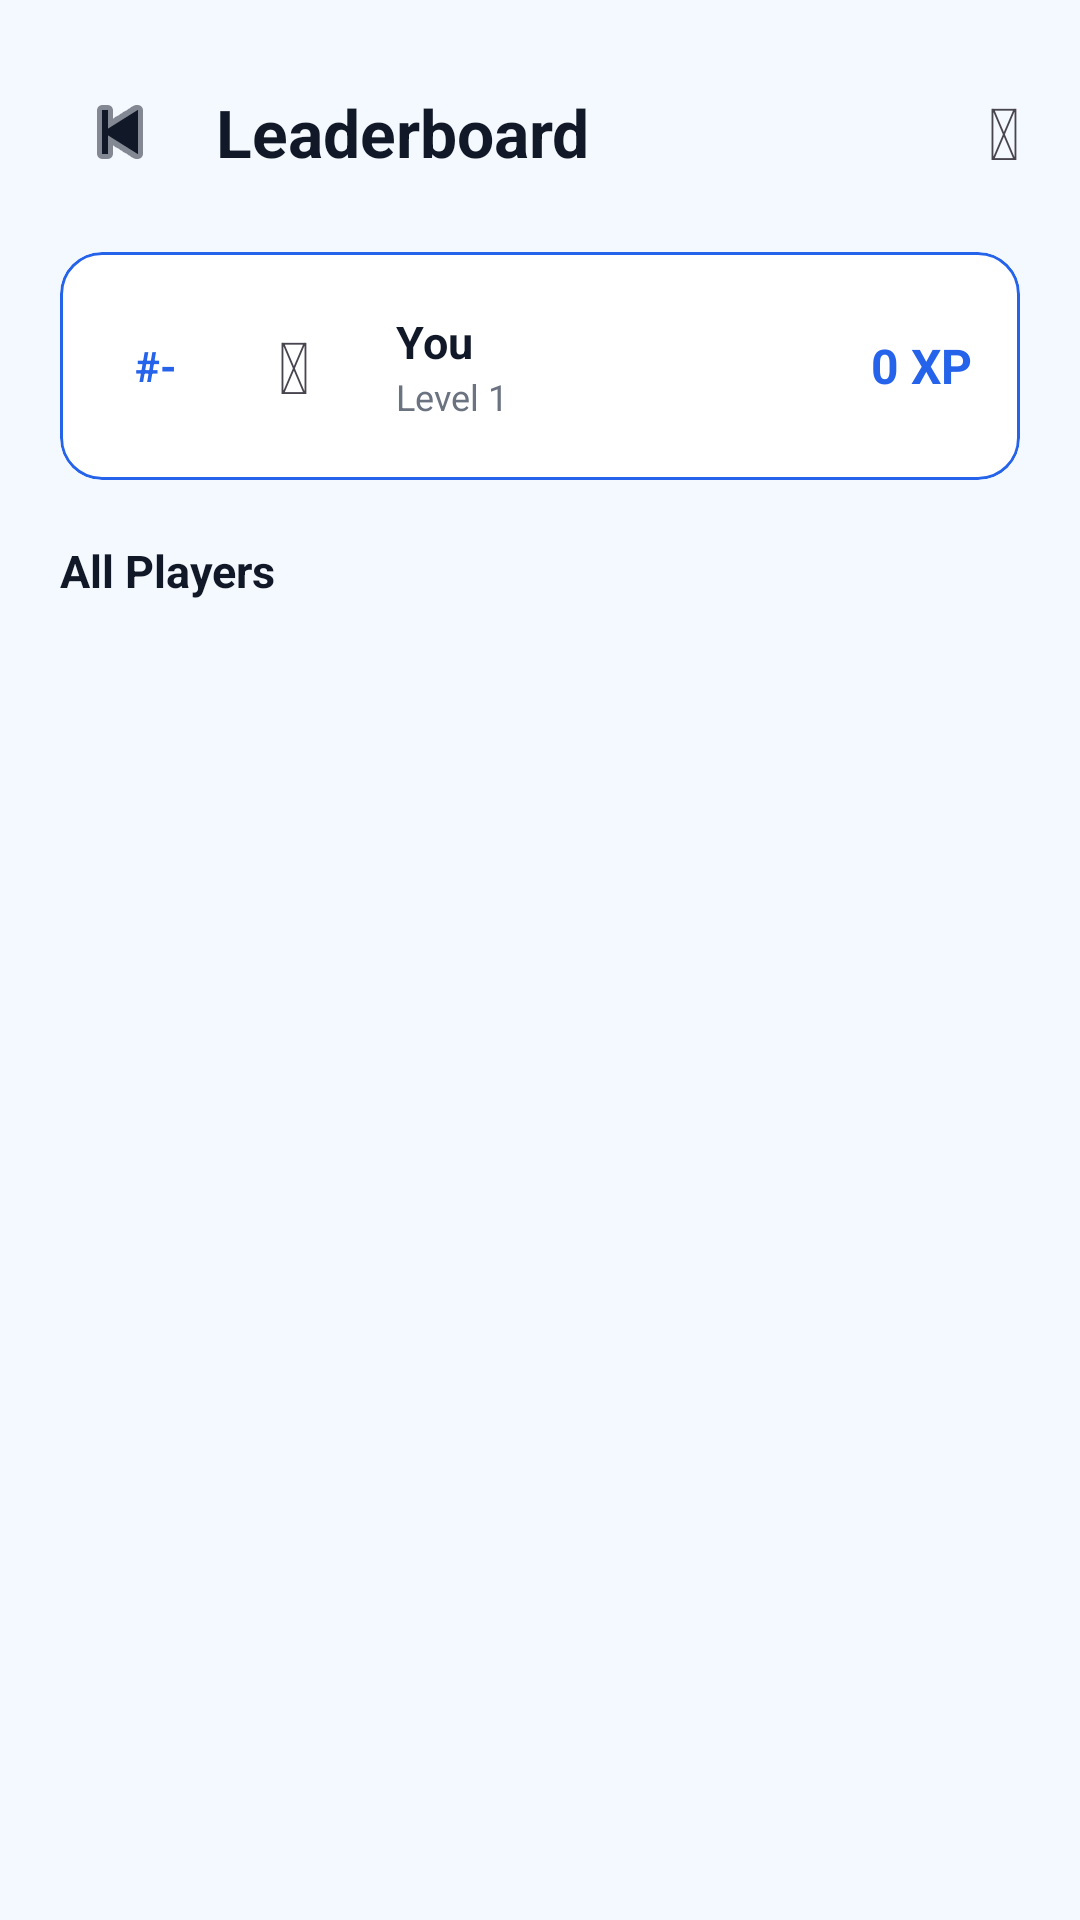

Named icons in this screenshot (1080px x 1920px) and their bounding boxes, region(x1, y1, x2, y2):
Back: region(97, 105, 143, 159)
